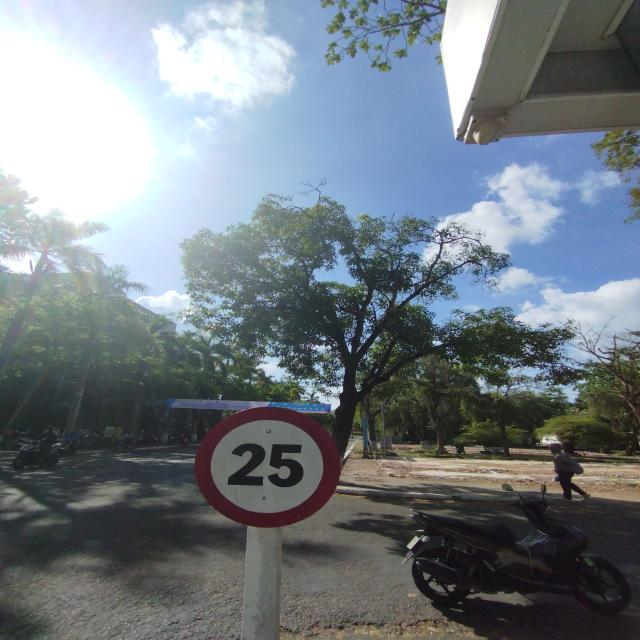Tre_Em: (192, 406, 344, 530)
